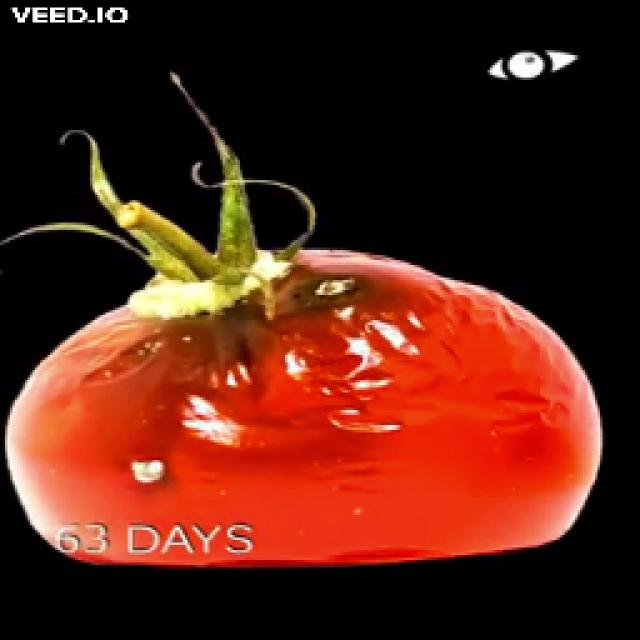overripe tomato: (0, 163, 614, 583)
